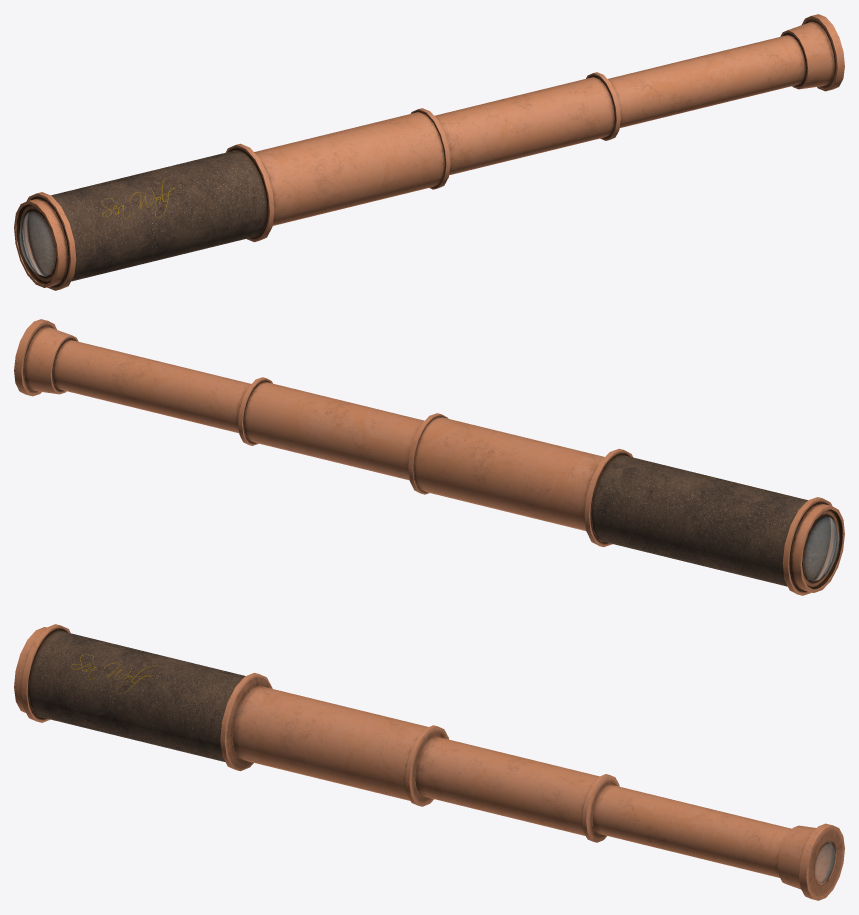
Rendered from spyglass.glb.
3 views of the same model, one above another, from view 1: azimuth 30°, elevation 25°; view 2: azimuth 150°, elevation 25°; view 3: azimuth 330°, elevation 25° (orthographic).
Visible parts, largest first — view 1: Spyglass, SpyglassGlassBig; view 2: Spyglass, SpyglassGlassBig; view 3: Spyglass, SpyglassGlassSmall.
Part boxes in pixels (x1=…): Spyglass: x1=14, y1=14, x2=844, y2=290; SpyglassGlassBig: x1=19, y1=210, x2=55, y2=276; Spyglass: x1=14, y1=319, x2=844, y2=595; SpyglassGlassBig: x1=803, y1=515, x2=839, y2=581; Spyglass: x1=14, y1=624, x2=844, y2=900; SpyglassGlassSmall: x1=814, y1=841, x2=835, y2=883.
Size of the model in its own units: 0.4777 by 0.0516 by 0.0516.
Materials: 2 (2 with a texture image).
